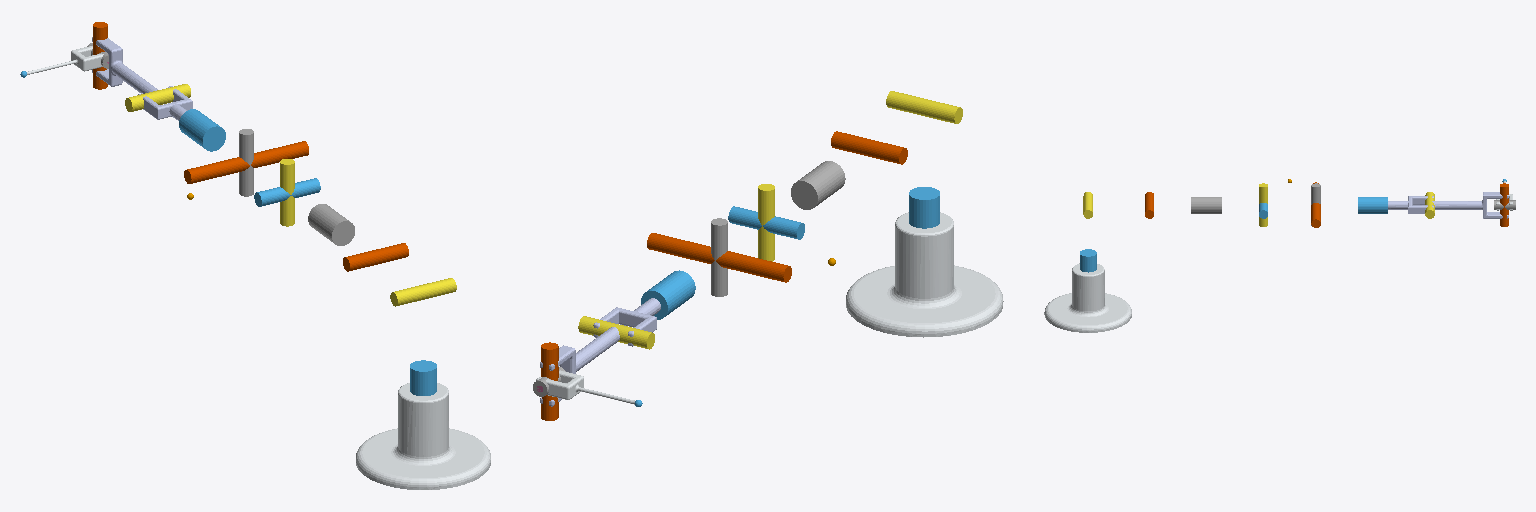
--- Render facts (derived) ---
The picture shows the robot from 3 angles, left to right: view 1: azimuth 30°, elevation 25°; view 2: azimuth 150°, elevation 25°; view 3: azimuth 270°, elevation 25°; orthographic projection.
Model twelvedof with 42 links and 41 joints (12 continuous, 29 fixed), rooted at world, posed every joint at zero.
Links seen in each view (by area): view 1: base_link, motor7, link10, motor4, motor9, motor2, motor3, motor1, motor6, motor8, motor5, link9 (+3 smaller); view 2: base_link, motor7, motor4, motor9, link10, motor3, motor2, motor1, link9, motor5, motor8, motor6 (+3 smaller); view 3: base_link, link10, motor4.
Boxes of the visible links, x1=… form: base_link: x1=356, y1=383, x2=490, y2=489; motor7: x1=184, y1=141, x2=308, y2=183; link10: x1=92, y1=37, x2=157, y2=93; motor4: x1=308, y1=204, x2=354, y2=245; motor9: x1=179, y1=109, x2=225, y2=151; motor2: x1=390, y1=278, x2=456, y2=306; motor3: x1=343, y1=243, x2=408, y2=271; motor1: x1=410, y1=360, x2=436, y2=395; motor6: x1=280, y1=159, x2=294, y2=226; motor8: x1=239, y1=129, x2=253, y2=196; motor5: x1=254, y1=178, x2=320, y2=206; link9: x1=138, y1=86, x2=192, y2=120; base_link: x1=846, y1=212, x2=1003, y2=337; motor7: x1=647, y1=233, x2=791, y2=282; motor4: x1=791, y1=161, x2=845, y2=209; motor9: x1=641, y1=270, x2=695, y2=319; link10: x1=540, y1=327, x2=619, y2=406; motor3: x1=831, y1=131, x2=907, y2=164; motor2: x1=886, y1=91, x2=962, y2=123; motor1: x1=909, y1=187, x2=939, y2=228; link9: x1=593, y1=298, x2=660, y2=346; motor5: x1=728, y1=206, x2=804, y2=239; motor8: x1=711, y1=218, x2=727, y2=296; motor6: x1=758, y1=184, x2=774, y2=261; base_link: x1=1044, y1=263, x2=1131, y2=332; link10: x1=1432, y1=192, x2=1508, y2=218; motor4: x1=1191, y1=197, x2=1221, y2=213.
Size in the robot's own frame: 0.235 by 1.07 by 0.325 metres.
4 mesh visuals loaded from 13 distinct referenced files (4 binary STL); not drawn: 9 (reference not matched to a file when rendering).

URDF robot description (twelvedof):
<?xml version="1.0" encoding="utf-8"?>
<!-- This URDF was automatically created by SolidWorks to URDF Exporter! Originally created by Stephen Brawner ([email redacted]) 
     Commit Version: 1.6.0-1-g15f4949  Build Version: 1.6.7594.29634
     For more information, please see http://wiki.ros.org/sw_urdf_exporter -->
<robot
  name="twelvedof">
  
  <link name="world"/>
    
  <joint name="worldjoint" type="fixed">
    <origin xyz="0 0 0" rpy="0 0 0" />
    <parent link="world" />
    <child link="base_link" />
  </joint>

  <link name="base_link">
    <inertial>
      <origin
        xyz="-7.9441E-34 1.4856E-18 0.035234"
        rpy="0 0 0" />
      <mass
        value="10" />
      <inertia
        ixx="0.002379"
        ixy="3.1576E-35"
        ixz="-1.5303E-35"
        iyy="0.002379"
        iyz="-3.5773E-19"
        izz="0.0025484" />
    </inertial>
    <visual>
      <origin xyz="0 0 0" rpy="0 0 0" />
      <geometry>
        <mesh filename="package://project/meshes/base_link.STL" />
      </geometry>
      <material name="">
        <color rgba="0.89804 0.91765 0.92941 1" />
      </material>
    </visual>
  </link>
    
  <joint name="theta1" type="continuous">
    <origin xyz="0 0 0.105" rpy="1.5708 0 0" />
    <parent link="base_link" />
    <child link="link1" />
    <axis xyz="0 1 0" />
    <dynamics damping="1.0"/>
  </joint>

  <link name="link1">
    <inertial>
      <origin
        xyz="-1.419E-18 0.069921 -7.0908E-19"
        rpy="0 0 0" />
      <mass
        value="0.12918" />
      <inertia
        ixx="0.00038933"
        ixy="1.554E-20"
        ixz="-3.5807E-10"
        iyy="5.0815E-05"
        iyz="-1.9525E-20"
        izz="0.000405" />
    </inertial>
    <visual>
      <origin xyz="0 0 0" rpy="0 0 0" />
      <geometry>
        <mesh filename="package://project/meshes/link1.STL" />
      </geometry>
      <material name="">
        <color rgba="0.89804 0.91765 0.92941 1" />
      </material>
    </visual>
  </link>

  <joint name="theta2" type="continuous">
    <origin xyz="0 0.17 0" rpy="1.5708 1.5708 0" />
    <parent link="link1" />
    <child link="link2" />
    <axis xyz="0 1 0" />
    <dynamics damping="1.0"/>
  </joint>
  
  <link name="link2">
    <inertial>
      <origin
        xyz="0.07 -7.4661E-18 -2.6756E-09"
        rpy="0 0 0" />
      <mass
        value="0.13136" />
      <inertia
        ixx="1.9122E-05"
        ixy="4.4167E-20"
        ixz="-4.1467E-11"
        iyy="0.00034685"
        iyz="-2.4668E-11"
        izz="0.00035017" />
    </inertial>
    <visual>
      <origin xyz="0 0 0" rpy="0 0 0" />
      <geometry>
        <mesh filename="package://project/meshes/link2.STL" />
      </geometry>
      <material name="">
        <color rgba="0.79216 0.81961 0.93333 1" />
      </material>
    </visual>
  </link>
  
  <joint name="theta3" type="continuous">
    <origin xyz="0.14 0 0" rpy="0 0 1.5707963267949" />
    <parent link="link2" />
    <child link="link3" />
    <axis xyz="1 0 0" />
    <dynamics damping="1.0"/>
  </joint>
  
  <link name="link3">
    <inertial>
      <origin
        xyz="1.39165419042562E-10 -0.055569036831021 1.50739365434305E-10"
        rpy="0 0 0" />
      <mass
        value="0.0532676480842889" />
      <inertia
        ixx="7.17068684111301E-05"
        ixy="-2.2073271379026E-14"
        ixz="-1.1411130364755E-10"
        iyy="1.66776723198201E-05"
        iyz="-3.9646299805838E-14"
        izz="8.52612221768292E-05" />
    </inertial>
    <visual>
      <origin xyz="0 0 0" rpy="0 0 0" />
      <geometry>
        <mesh filename="package://project/meshes/link3.STL" />
      </geometry>
      <material name="">
        <color rgba="0.792156862745098 0.819607843137255 0.933333333333333 1" />
      </material>
    </visual>
  </link>
 
  <joint name="theta4" type="continuous">
    <origin xyz="0 -0.13 0" rpy="0 0 3.14159265358979" />
    <parent link="link3" />
    <child link="link4" />
    <axis xyz="0 1 0" />
    <dynamics damping="1.0"/>
  </joint>
 
  <link name="link4">
    <inertial>
      <origin
        xyz="3.66680228788307E-10 0.0744309630757226 4.57771598405543E-11"
        rpy="0 0 0" />
      <mass
        value="0.0532676474780037" />
      <inertia
        ixx="7.17068683212608E-05"
        ixy="-1.36945613265618E-13"
        ixz="-1.14230929893076E-10"
        iyy="1.66776720100514E-05"
        iyz="1.00418867716223E-14"
        izz="8.52612218841434E-05" />
    </inertial>
    <visual>
      <origin xyz="0 0 0" rpy="0 0 0" />
      <geometry>
        <mesh filename="package://project/meshes/link4.STL" />
      </geometry>
      <material name="">
        <color rgba="0.792156862745098 0.819607843137255 0.933333333333333 1" />
      </material>
    </visual>
  </link>

  <joint name="theta5" type="continuous">
    <origin xyz="0 0.13 0" rpy="0 -1.5707963267949 0" />
    <parent link="link4" />
    <child link="link5" />
    <axis xyz="0 0 1" />
    <dynamics damping="1.0"/>
  </joint>

  <link name="link5">
    <inertial>
      <origin
        xyz="-1.32641759797991E-08 1.7454444556364E-09 1.81333805274857E-07"
        rpy="0 0 0" />
      <mass
        value="0.00994148578496848" />
      <inertia
        ixx="1.54538351353866E-06"
        ixy="1.86661466040859E-12"
        ixz="-5.08179849707645E-12"
        iyy="1.51571936007817E-06"
        iyz="-3.23276961224318E-12"
        izz="6.20263989581308E-07" />
    </inertial>
    <visual>
      <origin xyz="0 0 0" rpy="0 0 0" />
      <geometry>
        <mesh filename="package://project/meshes/link5.STL" />
      </geometry>
      <material name="">
        <color rgba="0.898039215686275 0.917647058823529 0.929411764705882 1" />
      </material>
    </visual>
  </link>

  <joint name="theta6" type="continuous">
    <origin xyz="0 0 0" rpy="-3.14159265358979 0 0" />
    <parent link="link5" />
    <child link="link6" />
    <axis xyz="1 0 0" />
    <dynamics damping="1.0"/>
  </joint>

  <link name="link6">
    <inertial>
      <origin
        xyz="-8.98395696724563E-09 -0.0600000346635212 0.00167698865762602"
        rpy="0 0 0" />
      <mass
        value="0.0570027293868964" />
      <inertia
        ixx="8.72110819353783E-05"
        ixy="2.83939957777628E-10"
        ixz="5.72306396551074E-12"
        iyy="1.66281845808555E-05"
        iyz="2.87090876599928E-11"
        izz="8.79631628732104E-05" />
    </inertial>
    <visual>
      <origin xyz="0 0 0" rpy="0 0 0" />
      <geometry>
        <mesh filename="package://project/meshes/link6.STL" />
      </geometry>
      <material name="">
        <color rgba="0.792156862745098 0.819607843137255 0.933333333333333 1" />
      </material>
    </visual>
  </link>

  <joint name="final1" type="fixed">
    <parent link="link6"/>
    <child  link="tip_elbow"/>
    <origin xyz="0 0 0" rpy="0 0 0"/>
  </joint>

  <link name="tip_elbow"/>
  
  
<!-- SECOND HALF OF ARM -->


  <joint name="theta7" type="continuous">
    <origin xyz="0 -0.12 0" rpy="0 0 3.14159265358979" />
    <parent link="link6" />
    <child link="link7" />
    <axis xyz="1 0 0" />
    <dynamics damping="0.8"/>
  </joint>

  <link name="link7">
    <inertial>
      <origin
        xyz="-1.32641757577545E-08 1.7454445666587E-09 1.81333805254885E-07"
        rpy="0 0 0" />
      <mass
        value="0.00994148578496851" />
      <inertia
        ixx="1.54538351353867E-06"
        ixy="1.86661466222653E-12"
        ixz="-5.08179849667178E-12"
        iyy="1.51571936007817E-06"
        iyz="-3.2327696128287E-12"
        izz="6.20263989581311E-07" />
    </inertial>
    <visual>
      <origin xyz="0 0 0" rpy="0 0 0" />
      <geometry>
        <mesh filename="package://project/meshes/link7.STL" />
      </geometry>
      <material name="">
        <color rgba="0.898039215686275 0.917647058823529 0.929411764705882 1" />
      </material>
    </visual>
  </link>

  <joint name="theta8" type="continuous">
    <origin xyz="0 0 0" rpy="3.14159265358979 1.5707963267949 0" />
    <parent link="link7" />
    <child link="link8" />
    <axis xyz="1 0 0" />
    <dynamics damping="0.8"/>
  </joint>

  <link name="link8">
    <inertial>
      <origin
        xyz="-8.83495037608582E-11 -0.0555690369242776 2.55700793871938E-10"
        rpy="0 0 0" />
      <mass
        value="0.0532676474780038" />
      <inertia
        ixx="7.17068683212609E-05"
        ixy="9.27992182478001E-14"
        ixz="-1.14230930028211E-10"
        iyy="1.66776720100514E-05"
        iyz="-8.93351379369638E-14"
        izz="8.52612218841436E-05" />
    </inertial>
    <visual>
      <origin xyz="0 0 0" rpy="0 0 0" />
      <geometry>
        <mesh filename="package://project/meshes/link8.STL" />
      </geometry>
      <material name="">
        <color rgba="0.792156862745098 0.819607843137255 0.933333333333333 1" />
      </material>
    </visual>
  </link>

  <joint name="theta9" type="continuous">
    <origin xyz="0 -0.13 0" rpy="-3.14159265358978 0 0" />
    <parent link="link8" />
    <child link="link9" />
    <axis xyz="0 1 0" />
    <dynamics damping="0.8"/>
  </joint>

  <link name="link9">
    <inertial>
      <origin
        xyz="-8.83494916528465E-11 0.0744309630757227 2.55701515516904E-10"
        rpy="0 0 0" />
      <mass
        value="0.0532676474780037" />
      <inertia
        ixx="7.17068683212611E-05"
        ixy="9.27991842210463E-14"
        ixz="-1.14230929898427E-10"
        iyy="1.66776720100515E-05"
        iyz="-8.93344383273059E-14"
        izz="8.52612218841439E-05" />
    </inertial>
    <visual>
      <origin xyz="0 0 0" rpy="0 0 0" />
      <geometry>
        <mesh filename="package://project/meshes/link9.STL" />
      </geometry>
      <material name="">
        <color rgba="0.792156862745098 0.819607843137255 0.933333333333333 1" />
      </material>
    </visual>
  </link>
 
  <joint name="theta10" type="continuous">
    <origin xyz="0 0.13 0" rpy="3.14159265358979 0 1.5707963267949" />
    <parent link="link9" />
    <child link="link10" />
    <axis xyz="0 1 0" />
    <dynamics damping="0.8"/>
  </joint>
 
  <link name="link10">
    <inertial>
      <origin
        xyz="0.0858647819115578 -4.94694969462831E-05 4.79974323619459E-08"
        rpy="0 0 0" />
      <mass
        value="0.0743981881209823" />
      <inertia
        ixx="1.87713917621073E-05"
        ixy="-3.1603968463363E-07"
        ixz="2.00084585094285E-10"
        iyy="0.000245163362524828"
        iyz="3.88373017940527E-11"
        izz="0.000232598980003436" />
    </inertial>
    <visual>
      <origin xyz="0 0 0" rpy="0 0 0" />
      <geometry>
        <mesh filename="package://project/meshes/link10.STL" />
      </geometry>
      <material name="">
        <color rgba="0.792156862745098 0.819607843137255 0.933333333333333 1" />
      </material>
    </visual>
  </link>
 
  <joint name="theta11" type="continuous">
    <origin xyz="0.17 0 0" rpy="3.14159265358979 0 0" />
    <parent link="link10" />
    <child link="link11" />
    <axis xyz="0 0 1" />
    <dynamics damping="0.5"/>
  </joint>
 

  <link name="link11">
    <inertial>
      <origin
        xyz="-1.32641758687768E-08 1.74544477010197E-09 1.81333805249206E-07"
        rpy="0 0 0" />
      <mass
        value="0.0099414857849685" />
      <inertia
        ixx="1.54538351353871E-06"
        ixy="1.86623347652368E-12"
        ixz="-5.08179853781339E-12"
        iyy="1.51571936007812E-06"
        iyz="-3.23276954505056E-12"
        izz="6.20263989581311E-07" />
    </inertial>
    <visual>
      <origin xyz="0 0 0" rpy="0 0 0" />
      <geometry>
        <mesh filename="package://project/meshes/link11.STL" />
      </geometry>
      <material name="">
        <color rgba="0.898039215686275 0.917647058823529 0.929411764705882 1" />
      </material>
    </visual>
  </link>

  <joint name="theta12" type="continuous">
    <origin xyz="0 0 0" rpy="1.5707963267949 0 0" />
    <parent link="link11" />
    <child link="link12" />
    <axis xyz="1 0 0" />
    <dynamics damping="0.3"/>
  </joint>

  <link name="link12">
    <inertial>
      <origin
        xyz="3.18930326592692E-10 0 -0.0248194012953823"
        rpy="0 0 0" />
      <mass
        value="0.0230261093724122" />
      <inertia
        ixx="1.31880218422786E-05"
        ixy="-8.33050257778651E-12"
        ixz="1.06952381355644E-13"
        iyy="1.66498223037003E-05"
        iyz="-9.93988576856652E-20"
        izz="4.86490776895599E-06" />
    </inertial>
    <visual>
      <origin xyz="0 0 0" rpy="0 0 0" />
      <geometry>
        <mesh filename="package://project/meshes/link12.STL" />
      </geometry>
      <material name="">
        <color rgba="0.898039215686275 0.917647058823529 0.929411764705882 1" />
      </material>
    </visual>
  </link>

  <joint name="final2" type="fixed">
    <parent link="link12"/>
    <child  link="tip_full"/>
    <origin xyz="0 0 0" rpy="0 0 0"/>
  </joint>

  <link name="tip_full"/>










  <!-- *************************************************** -->
  <!-- ****** Building Blocks (Visual AND Inertial) ****** -->
  <!-- *************************************************** -->

  <!-- *** base_link-Fixed: Mount 1, Motor 1 *** -->

  <joint name="attach-mount1" type="fixed">
    <parent link="base_link"/>
    <child  link="mount1"/>
  </joint>
  <link name="mount1">
    <visual>
      <origin xyz="0 0 0.105" rpy="0 0 0"/>
      <geometry>
  <cylinder length="0.05" radius="0.011"/>
      </geometry>
      <material name="black"/>
    </visual>
    <collision>
      <origin xyz="0 0 0.105" rpy="0 0 0"/>
      <geometry>
  <cylinder length="0.05" radius="0.011"/>
      </geometry>
    </collision>
    <inertial>
      <origin xyz="0 0 0.105" rpy="0 0 0"/>
      <mass value="0.2"/>
      <inertia
        ixx="0.000687" ixy="0.0" ixz="0.0"
        iyy="0.000687" iyz="0.0"
        izz="1.000040"/>
    </inertial>
  </link>

  <joint name="attach-motor1" type="fixed">
    <parent link="base_link"/>
    <child  link="motor1"/>
  </joint>
  <link name="motor1">
    <visual>
      <origin xyz="0 0 0.105" rpy="0 0 0"/>
      <geometry>
  <cylinder length="0.1" radius="0.02"/>
      </geometry>
      <material name="gray"/>
    </visual>
    <collision>
      <origin xyz="0 0 0.105" rpy="0 0 0"/>
      <geometry>
  <cylinder length="0.1" radius="0.02"/>
      </geometry>
    </collision>
    <inertial>
      <origin xyz="0 0 0.405" rpy="0 0 0"/>
      <mass value="2.0"/>
      <inertia
        ixx="0.500990" ixy="0.0" ixz="0.0"
        iyy="0.000990" iyz="0.0"
        izz="0.000313"/>
    </inertial>
  </link>


  <!-- *** Motor 1 Output: Mount 2, Motor 2 *** -->

  <joint name="attach-mount2" type="fixed">
    <parent link="link1"/>
    <child  link="mount2"/>
  </joint>
  <link name="mount2">
    <visual>
      <origin xyz="0 0.17 0" rpy="0 -1.5708 0"/>
      <geometry>
  <cylinder length="0.05" radius="0.005"/>
      </geometry>
      <material name="black"/>
    </visual>
    <collision>
      <origin xyz="0 0.17 0" rpy="0 -1.5708 0"/>
      <geometry>
  <cylinder length="0.05" radius="0.005"/>
      </geometry>
    </collision>
    <inertial>
      <origin xyz="0 0.17 0" rpy="0 -1.5708 0"/>
      <mass value="0.2"/>
      <inertia
        ixx="0.000687" ixy="0.0" ixz="0.0"
        iyy="0.000687" iyz="0.0"
        izz="1.000040"/>
    </inertial>
  </link>

  <joint name="attach-motor2" type="fixed">
    <parent link="link1"/>
    <child  link="motor2"/>
  </joint>
  <link name="motor2">
    <visual>
      <origin xyz="0 0.17 0" rpy="0 -1.5708 0"/>
      <geometry>
  <cylinder length="0.1" radius="0.011"/>
      </geometry>
      <material name="gray"/>
    </visual>
    <collision>
      <origin xyz="0 0.17 0" rpy="0 -1.5708 0"/>
      <geometry>
  <cylinder length="0.1" radius="0.011"/>
      </geometry>
    </collision>
    <inertial>
      <origin xyz="0 0.17 0" rpy="0 -1.5708 0"/>
      <mass value="2.0"/>
      <inertia
        ixx="0.500990" ixy="0.0" ixz="0.0"
        iyy="0.000990" iyz="0.0"
        izz="0.000313"/>
    </inertial>
  </link>


  <!-- *** Motor 2 Output: Mount 3, Motor 3 *** -->

  <joint name="attach-mount3" type="fixed">
    <parent link="link2"/>
    <child  link="mount3"/>
  </joint>
  <link name="mount3">
    <visual>
      <origin xyz="0.14 0 0" rpy="0 -1.5708 -1.5708"/>
      <geometry>
  <cylinder length="0.05" radius="0.005"/>
      </geometry>
      <material name="black"/>
    </visual>
    <collision>
      <origin xyz="0.14 0 0" rpy="0 -1.5708 -1.5708"/>
      <geometry>
  <cylinder length="0.05" radius="0.005"/>
      </geometry>
    </collision>
    <inertial>
      <origin xyz="0.14 0 0" rpy="0 -1.5708 -1.5708"/>
      <mass value="0.2"/>
      <inertia
        ixx="0.000687" ixy="0.0" ixz="0.0"
        iyy="0.000687" iyz="0.0"
        izz="1.000040"/>
    </inertial>
  </link>

  <joint name="attach-motor3" type="fixed">
    <parent link="link2"/>
    <child  link="motor3"/>
  </joint>
  <link name="motor3">
    <visual>
      <origin xyz="0.14 0 0" rpy="0 -1.5708 -1.5708"/>
      <geometry>
  <cylinder length="0.1" radius="0.011"/>
      </geometry>
      <material name="gray"/>
    </visual>
    <collision>
      <origin xyz="0.14 0 0" rpy="0 -1.5708 -1.5708"/>
      <geometry>
  <cylinder length="0.1" radius="0.011"/>
      </geometry>
    </collision>
    <inertial>
      <origin xyz="0.14 0 0" rpy="0 -1.5708 -1.5708"/>
      <mass value="2.0"/>
      <inertia
        ixx="0.500990" ixy="0.0" ixz="0.0"
        iyy="0.000990" iyz="0.0"
        izz="0.000313"/>
    </inertial>
  </link>


  <!-- *** Motor 3 Output: Mount 4, Motor 4 *** -->

  <joint name="attach-mount4" type="fixed">
    <parent link="link3"/>
    <child  link="mount4"/>
  </joint>
  <link name="mount4">
    <visual>
      <origin xyz="0 -0.13 0" rpy="-1.5708 0 0"/>
      <geometry>
  <cylinder length="0.035" radius="0.011"/>
      </geometry>
      <material name="black"/>
    </visual>
    <collision>
      <origin xyz="0 -0.13 0" rpy="-1.5708 0 0"/>
      <geometry>
  <cylinder length="0.035" radius="0.011"/>
      </geometry>
    </collision>
    <inertial>
      <origin xyz="0 -0.13 0" rpy="-1.5708 0 0"/>
      <mass value="0.2"/>
      <inertia
        ixx="0.000687" ixy="0.0" ixz="0.0"
        iyy="0.000687" iyz="0.0"
        izz="1.000040"/>
    </inertial>
  </link>

  <joint name="attach-motor4" type="fixed">
    <parent link="link3"/>
    <child  link="motor4"/>
  </joint>
  <link name="motor4">
    <visual>
      <origin xyz="0 -0.13 0" rpy="-1.5708 0 0"/>
      <geometry>
  <cylinder length="0.07" radius="0.02"/>
      </geometry>
      <material name="gray"/>
    </visual>
    <collision>
      <origin xyz="0 -0.13 0" rpy="-1.5708 0 0"/>
      <geometry>
  <cylinder length="0.07" radius="0.02"/>
      </geometry>
    </collision>
    <inertial>
      <origin xyz="0 -0.13 0" rpy="-1.5708 0 0"/>
      <mass value="1.5"/>
      <inertia
        ixx="0.500990" ixy="0.0" ixz="0.0"
        iyy="0.000990" iyz="0.0"
        izz="0.000313"/>
    </inertial>
  </link>


  <!-- *** Motor 4 Output: Mount 5, Motor 5 *** -->

  <joint name="attach-mount5" type="fixed">
    <parent link="link4"/>
    <child  link="mount5"/>
  </joint>
  <link name="mount5">
    <visual>
      <origin xyz="0 0.13 0" rpy="0 -1.5708 0"/>
      <geometry>
  <cylinder length="0.05" radius="0.005"/>
      </geometry>
      <material name="black"/>
    </visual>
    <collision>
      <origin xyz="0 0.13 0" rpy="0 -1.5708 0"/>
      <geometry>
  <cylinder length="0.05" radius="0.005"/>
      </geometry>
    </collision>
    <inertial>
      <origin xyz="0 0.13 0" rpy="0 -1.5708 0"/>
      <mass value="0.2"/>
      <inertia
        ixx="0.000687" ixy="0.0" ixz="0.0"
        iyy="0.000687" iyz="0.0"
        izz="1.000040"/>
    </inertial>
  </link>

  <joint name="attach-motor5" type="fixed">
    <parent link="link4"/>
    <child  link="motor5"/>
  </joint>
  <link name="motor5">
    <visual>
      <origin xyz="0 0.13 0" rpy="0 -1.5708 0"/>
      <geometry>
  <cylinder length="0.1" radius="0.011"/>
      </geometry>
      <material name="gray"/>
    </visual>
    <collision>
      <origin xyz="0 0.13 0" rpy="0 -1.5708 0"/>
      <geometry>
  <cylinder length="0.1" radius="0.011"/>
      </geometry>
    </collision>
    <inertial>
      <origin xyz="0 0.13 0" rpy="0 -1.5708 0"/>
      <mass value="1.5"/>
      <inertia
        ixx="0.500990" ixy="0.0" ixz="0.0"
        iyy="0.000990" iyz="0.0"
        izz="0.000313"/>
    </inertial>
  </link>


  <!-- *** Motor 5 Output: Mount 6, Motor 6 *** -->

  <joint name="attach-mount6" type="fixed">
    <parent link="link5"/>
    <child  link="mount6"/>
  </joint>
  <link name="mount6">
    <visual>
      <origin xyz="0 0 0" rpy="0 -1.5708 0"/>
      <geometry>
  <cylinder length="0.05" radius="0.005"/>
      </geometry>
      <material name="black"/>
    </visual>
    <collision>
      <origin xyz="0 0 0" rpy="0 -1.5708 0"/>
      <geometry>
  <cylinder length="0.05" radius="0.005"/>
      </geometry>
    </collision>
    <inertial>
      <origin xyz="0 0 0" rpy="0 -1.5708 0"/>
      <mass value="0.2"/>
      <inertia
        ixx="0.000687" ixy="0.0" ixz="0.0"
        iyy="0.000687" iyz="0.0"
        izz="1.000040"/>
    </inertial>
  </link>

  <joint name="attach-motor6" type="fixed">
    <parent link="link5"/>
    <child  link="motor6"/>
  </joint>
  <link name="motor6">
    <visual>
      <origin xyz="0 0 0" rpy="0 -1.5708 0"/>
      <geometry>
  <cylinder length="0.1" radius="0.011"/>
      </geometry>
      <material name="gray"/>
    </visual>
    <collision>
      <origin xyz="0 0 0" rpy="0 -1.5708 0"/>
      <geometry>
  <cylinder length="0.1" radius="0.011"/>
      </geometry>
    </collision>
    <inertial>
      <origin xyz="0 0 0" rpy="0 -1.5708 0"/>
      <mass value="1.5"/>
      <inertia
        ixx="0.500990" ixy="0.0" ixz="0.0"
        iyy="0.000990" iyz="0.0"
        izz="0.000313"/>
    </inertial>
  </link>


  <!-- *** Motor 6 Output: Mount 7, Motor 7 *** -->

  <joint name="attach-mount7" type="fixed">
    <parent link="link6"/>
    <child  link="mount7"/>
  </joint>
  <link name="mount7">
    <visual>
      <origin xyz="0 -0.12 0" rpy="0 0 0"/>
      <geometry>
  <cylinder length="0.05" radius="0.005"/>
      </geometry>
      <material name="black"/>
    </visual>
    <collision>
      <origin xyz="0 -0.12 0" rpy="0 0 0"/>
      <geometry>
  <cylinder length="0.05" radius="0.005"/>
      </geometry>
    </collision>
    <inertial>
      <origin xyz="0 -0.12 0" rpy="0 0 0"/>
      <mass value="0.2"/>
      <inertia
        ixx="0.000687" ixy="0.0" ixz="0.0"
        iyy="0.000687" iyz="0.0"
        izz="1.000040"/>
    </inertial>
  </link>

  <joint name="attach-motor7" type="fixed">
    <parent link="link6"/>
    <child  link="motor7"/>
  </joint>
  <link name="motor7">
    <visual>
      <origin xyz="0 -0.12 0" rpy="0 0 0"/>
      <geometry>
  <cylinder length="0.2" radius="0.011"/>
      </geometry>
      <material name="gray"/>
    </visual>
    <collision>
      <origin xyz="0 -0.12 0" rpy="0 0 0"/>
      <geometry>
  <cylinder length="0.1" radius="0.011"/>
      </geometry>
    </collision>
    <inertial>
      <origin xyz="0 -0.12 0" rpy="0 0 0"/>
      <mass value="1.5"/>
      <inertia
        ixx="0.500990" ixy="0.0" ixz="0.0"
        iyy="0.000990" iyz="0.0"
        izz="0.000313"/>
    </inertial>
  </link>


  <!-- *** Motor 7 Output: Mount 8, Motor 8 *** -->

  <joint name="attach-mount8" type="fixed">
    <parent link="link7"/>
    <child  link="mount8"/>
  </joint>
  <link name="mount8">
    <visual>
      <origin xyz="0 0 0" rpy="0 -1.5707963267949 0"/>
      <geometry>
  <cylinder length="0.05" radius="0.005"/>
      </geometry>
      <material name="black"/>
    </visual>
    <collision>
      <origin xyz="0 0 0" rpy="0 -1.5707963267949 0"/>
      <geometry>
  <cylinder length="0.05" radius="0.005"/>
      </geometry>
    </collision>
    <inertial>
      <origin xyz="0 0 0" rpy="0 -1.5707963267949 0"/>
      <mass value="0.2"/>
      <inertia
        ixx="0.000687" ixy="0.0" ixz="0.0"
        iyy="0.000687" iyz="0.0"
        izz="1.000040"/>
    </inertial>
  </link>

  <joint name="attach-motor8" type="fixed">
    <parent link="link7"/>
    <child  link="motor8"/>
  </joint>
  <link name="motor8">
    <visual>
      <origin xyz="0 0 0" rpy="0 -1.5707963267949 0"/>
      <geometry>
  <cylinder length="0.1" radius="0.011"/>
      </geometry>
      <material name="gray"/>
    </visual>
    <collision>
      <origin xyz="0 0 0" rpy="0 -1.5707963267949 0"/>
      <geometry>
  <cylinder length="0.1" radius="0.011"/>
      </geometry>
    </collision>
    <inertial>
      <origin xyz="0 0 0" rpy="0 -1.5707963267949 0"/>
      <mass value="1.0"/>
      <inertia
        ixx="0.500990" ixy="0.0" ixz="0.0"
        iyy="0.000990" iyz="0.0"
        izz="0.000313"/>
    </inertial>
  </link>


  <!-- *** Motor 8 Output: Mount 9, Motor 9 *** -->

  <joint name="attach-mount9" type="fixed">
    <parent link="link8"/>
    <child  link="mount9"/>
  </joint>
  <link name="mount9">
    <visual>
      <origin xyz="0 -0.13 0" rpy="1.5707963267949 0 0"/>
      <geometry>
  <cylinder length="0.05" radius="0.005"/>
      </geometry>
      <material name="black"/>
    </visual>
    <collision>
      <origin xyz="0 -0.13 0" rpy="1.5707963267949 0 0"/>
      <geometry>
  <cylinder length="0.05" radius="0.005"/>
      </geometry>
    </collision>
    <inertial>
      <origin xyz="0 -0.13 0" rpy="1.5707963267949 0 0"/>
      <mass value="0.2"/>
      <inertia
        ixx="0.000687" ixy="0.0" ixz="0.0"
        iyy="0.000687" iyz="0.0"
        izz="1.000040"/>
    </inertial>
  </link>

  <joint name="attach-motor9" type="fixed">
    <parent link="link8"/>
    <child  link="motor9"/>
  </joint>
  <link name="motor9">
    <visual>
      <origin xyz="0 -0.13 0" rpy="1.5707963267949 0 0"/>
      <geometry>
  <cylinder length="0.07" radius="0.02"/>
      </geometry>
      <material name="gray"/>
    </visual>
    <collision>
      <origin xyz="0 -0.13 0" rpy="1.5707963267949 0 0"/>
      <geometry>
  <cylinder length="0.07" radius="0.02"/>
      </geometry>
    </collision>
    <inertial>
      <origin xyz="0 -0.13 0" rpy="1.5707963267949 0 0"/>
      <mass value="1.0"/>
      <inertia
        ixx="0.500990" ixy="0.0" ixz="0.0"
        iyy="0.000990" iyz="0.0"
        izz="0.000313"/>
    </inertial>
  </link>


  <!-- *** Motor 9 Output: Mount 10, Motor 10 *** -->

  <joint name="attach-mount10" type="fixed">
    <parent link="link9"/>
    <child  link="mount10"/>
  </joint>
  <link name="mount10">
    <visual>
      <origin xyz="0 0.13 0" rpy="0 -1.5707963267949 0"/>
      <geometry>
  <cylinder length="0.05" radius="0.005"/>
      </geometry>
      <material name="black"/>
    </visual>
    <collision>
      <origin xyz="0 0.13 0" rpy="0 -1.5707963267949 0"/>
      <geometry>
  <cylinder length="0.05" radius="0.005"/>
      </geometry>
    </collision>
    <inertial>
      <origin xyz="0 0.13 0" rpy="0 -1.5707963267949 0"/>
      <mass value="0.2"/>
      <inertia
        ixx="0.000687" ixy="0.0" ixz="0.0"
        iyy="0.000687" iyz="0.0"
        izz="1.000040"/>
    </inertial>
  </link>

  <joint name="attach-motor10" type="fixed">
    <parent link="link9"/>
    <child  link="motor10"/>
  </joint>
  <link name="motor10">
    <visual>
      <origin xyz="0 0.13 0" rpy="0 -1.5707963267949 0"/>
      <geometry>
  <cylinder length="0.1" radius="0.011"/>
      </geometry>
      <material name="gray"/>
    </visual>
    <collision>
      <origin xyz="0 0.13 0" rpy="0 -1.5707963267949 0"/>
      <geometry>
  <cylinder length="0.1" radius="0.011"/>
      </geometry>
    </collision>
    <inertial>
      <origin xyz="0 0.13 0" rpy="0 -1.5707963267949 0"/>
      <mass value="1.0"/>
      <inertia
        ixx="0.500990" ixy="0.0" ixz="0.0"
        iyy="0.000990" iyz="0.0"
        izz="0.000313"/>
    </inertial>
  </link>


  <!-- *** Motor 10 Output: Mount 11, Motor 11 *** -->

  <joint name="attach-mount11" type="fixed">
    <parent link="link10"/>
    <child  link="mount11"/>
  </joint>
  <link name="mount11">
    <visual>
      <origin xyz="0.17 0 0" rpy="-3.14159265358979 0 0"/>
      <geometry>
  <cylinder length="0.05" radius="0.005"/>
      </geometry>
      <material name="black"/>
    </visual>
    <collision>
      <origin xyz="0.17 0 0" rpy="-3.14159265358979 0 0"/>
      <geometry>
  <cylinder length="0.05" radius="0.005"/>
      </geometry>
    </collision>
    <inertial>
      <origin xyz="0.17 0 0" rpy="-3.14159265358979 0 0"/>
      <mass value="0.2"/>
      <inertia
        ixx="0.000687" ixy="0.0" ixz="0.0"
        iyy="0.000687" iyz="0.0"
        izz="1.000040"/>
    </inertial>
  </link>

  <joint name="attach-motor11" type="fixed">
    <parent link="link10"/>
    <child  link="motor11"/>
  </joint>
  <link name="motor11">
    <visual>
      <origin xyz="0.17 0 0" rpy="-3.14159265358979 0 0"/>
      <geometry>
  <cylinder length="0.1" radius="0.011"/>
      </geometry>
      <material name="gray"/>
    </visual>
    <collision>
      <origin xyz="0.17 0 0" rpy="-3.14159265358979 0 0"/>
      <geometry>
  <cylinder length="0.1" radius="0.011"/>
      </geometry>
    </collision>
    <inertial>
      <origin xyz="0.17 0 0" rpy="-3.14159265358979 0 0"/>
      <mass value="1.0"/>
      <inertia
        ixx="0.500990" ixy="0.0" ixz="0.0"
        iyy="0.000990" iyz="0.0"
        izz="0.000313"/>
    </inertial>
  </link>


  <!-- *** Motor 11 Output: Mount 12, Motor 12 *** -->

  <joint name="attach-mount12" type="fixed">
    <parent link="link11"/>
    <child  link="mount12"/>
  </joint>
  <link name="mount12">
    <visual>
      <origin xyz="0 0 0" rpy="0 -1.5707963267949 0"/>
      <geometry>
  <cylinder length="0.05" radius="0.005"/>
      </geometry>
      <material name="black"/>
    </visual>
    <collision>
      <origin xyz="0 0 0" rpy="0 -1.5707963267949 0"/>
      <geometry>
  <cylinder length="0.05" radius="0.005"/>
      </geometry>
    </collision>
    <inertial>
      <origin xyz="0 0 0" rpy="0 -1.5707963267949 0"/>
      <mass value="0.2"/>
      <inertia
        ixx="0.000687" ixy="0.0" ixz="0.0"
        iyy="0.000687" iyz="0.0"
        izz="1.000040"/>
    </inertial>
  </link>

  <joint name="attach-motor12" type="fixed">
    <parent link="link11"/>
    <child  link="motor12"/>
  </joint>
  <link name="motor12">
    <visual>
      <origin xyz="0 0 0" rpy="0 -1.5707963267949 0"/>
      <geometry>
  <cylinder length="0.05" radius="0.011"/>
      </geometry>
      <material name="gray"/>
    </visual>
    <collision>
      <origin xyz="0 0 0" rpy="0 -1.5707963267949 0"/>
      <geometry>
  <cylinder length="0.05" radius="0.011"/>
      </geometry>
    </collision>
    <inertial>
      <origin xyz="0 0 0" rpy="0 -1.5707963267949 0"/>
      <mass value="1.0"/>
      <inertia
        ixx="0.500990" ixy="0.0" ixz="0.0"
        iyy="0.000990" iyz="0.0"
        izz="0.000313"/>
    </inertial>
  </link>



  <!-- *** Motor 6 Output: Sphere1 *** -->

  <joint name="attach-sphere1" type="fixed">
    <parent link="tip_elbow"/>
    <child  link="sphere1"/>
  </joint>
  <link name="sphere1">
    <visual>
      <origin xyz="0 -0.06 0.13" rpy="0 0 0"/>
      <geometry>
	      <sphere radius="0.005"/>
      </geometry>
      <material name="green"/>
    </visual>
    <collision>
      <origin xyz="0 -0.06 0.13" rpy="0 0 0"/>
      <geometry>
	      <sphere radius="0.005"/>
      </geometry>
      <material name="green"/>
    </collision>
    <inertial>
      <origin xyz="0 -0.06 0.13" rpy="0 0 0"/>
      <mass value="0.01"/>
      <inertia
        ixx="0.01" ixy="0.0" ixz="0.0"
        iyy="0.01" iyz="0.0"
        izz="0.01"/>
    </inertial>
  </link>

  <!-- *** Motor 12 Output: Sphere2 *** -->

  <joint name="attach-sphere2" type="fixed">
    <parent link="tip_full"/>
    <child  link="sphere2"/>
  </joint>
  <link name="sphere2">
    <visual>
      <origin xyz="0 0 -0.13" rpy="0 0 0"/>
      <geometry>
	      <sphere radius="0.005"/>
      </geometry>
      <material name="green"/>
    </visual>
    <collision>
      <origin xyz="0 0 -0.13" rpy="0 0 0"/>
      <geometry>
	      <sphere radius="0.005"/>
      </geometry>
      <material name="green"/>
    </collision>
    <inertial>
      <origin xyz="0 0 -0.13" rpy="0 0 0"/>
      <mass value="0.01"/>
      <inertia
        ixx="0.01" ixy="0.0" ixz="0.0"
        iyy="0.01" iyz="0.0"
        izz="0.01"/>
    </inertial>
  </link>




  <!-- *************************************************** -->
  <!-- ******************* Gazebo Colors ***************** -->
  <!-- *************************************************** -->

  <gazebo reference="motor1"> <material>Gazebo/Gray</material>  </gazebo>
  <gazebo reference="motor2"> <material>Gazebo/Gray</material>  </gazebo>
  <gazebo reference="motor3"> <material>Gazebo/Gray</material>  </gazebo>
  <gazebo reference="motor4"> <material>Gazebo/Gray</material>  </gazebo>
  <gazebo reference="motor5"> <material>Gazebo/Gray</material>  </gazebo>
  <gazebo reference="motor6"> <material>Gazebo/Gray</material>  </gazebo>
  <gazebo reference="motor7"> <material>Gazebo/Gray</material>  </gazebo>
  <gazebo reference="motor8"> <material>Gazebo/Gray</material>  </gazebo>
  <gazebo reference="motor9"> <material>Gazebo/Gray</material>  </gazebo>
  <gazebo reference="motor10"> <material>Gazebo/Gray</material>  </gazebo>
  <gazebo reference="motor11"> <material>Gazebo/Gray</material>  </gazebo>
  <gazebo reference="motor12"> <material>Gazebo/Gray</material>  </gazebo>

  <gazebo reference="mount1">   <material>Gazebo/Black</material> </gazebo>
  <gazebo reference="mount2">   <material>Gazebo/Black</material> </gazebo>
  <gazebo reference="mount3">   <material>Gazebo/Black</material> </gazebo>
  <gazebo reference="mount4">   <material>Gazebo/Black</material> </gazebo>
  <gazebo reference="mount5">   <material>Gazebo/Black</material> </gazebo>
  <gazebo reference="mount6">   <material>Gazebo/Black</material> </gazebo>
  <gazebo reference="mount7">   <material>Gazebo/Black</material> </gazebo>
  <gazebo reference="mount8">   <material>Gazebo/Black</material> </gazebo>
  <gazebo reference="mount9">   <material>Gazebo/Black</material> </gazebo>
  <gazebo reference="mount10">   <material>Gazebo/Black</material> </gazebo>
  <gazebo reference="mount11">   <material>Gazebo/Black</material> </gazebo>
  <gazebo reference="mount12">   <material>Gazebo/Black</material> </gazebo>

  <gazebo reference="sphere">  <material>Gazebo/Green</material>  </gazebo>
  
 



  <!-- *************************************************** -->
  <!-- ************** Gazebo Transmissions *************** -->
  <!-- *************************************************** -->

  <transmission name="trans1">
    <type>transmission_interface/SimpleTransmission</type>
    <joint name="theta1">
      <hardwareInterface>hardware_interface/EffortJointInterface</hardwareInterface>
    </joint>
    <actuator name="motor1">
      <mechanicalReduction>1</mechanicalReduction>
      <hardwareInterface>hardware_interface/EffortJointInterface</hardwareInterface>
    </actuator>
  </transmission>
  
  <transmission name="trans2">
    <type>transmission_interface/SimpleTransmission</type>
    <joint name="theta2">
      <hardwareInterface>hardware_interface/EffortJointInterface</hardwareInterface>
    </joint>
    <actuator name="motor2">
      <mechanicalReduction>1</mechanicalReduction>
      <hardwareInterface>hardware_interface/EffortJointInterface</hardwareInterface>
    </actuator>
  </transmission>
  
  <transmission name="trans3">
    <type>transmission_interface/SimpleTransmission</type>
    <joint name="theta3">
      <hardwareInterface>hardware_interface/EffortJointInterface</hardwareInterface>
    </joint>
    <actuator name="motor3">
      <mechanicalReduction>1</mechanicalReduction>
      <hardwareInterface>hardware_interface/EffortJointInterface</hardwareInterface>
    </actuator>
  </transmission>
  
  <transmission name="trans4">
    <type>transmission_interface/SimpleTransmission</type>
    <joint name="theta4">
      <hardwareInterface>hardware_interface/EffortJointInterface</hardwareInterface>
    </joint>
    <actuator name="motor4">
      <mechanicalReduction>1</mechanicalReduction>
      <hardwareInterface>hardware_interface/EffortJointInterface</hardwareInterface>
    </actuator>
  </transmission>
  
  <transmission name="trans5">
    <type>transmission_interface/SimpleTransmission</type>
    <joint name="theta5">
      <hardwareInterface>hardware_interface/EffortJointInterface</hardwareInterface>
    </joint>
    <actuator name="motor5">
      <mechanicalReduction>1</mechanicalReduction>
      <hardwareInterface>hardware_interface/EffortJointInterface</hardwareInterface>
    </actuator>
  </transmission>
  
  <transmission name="trans6">
    <type>transmission_interface/SimpleTransmission</type>
    <joint name="theta6">
      <hardwareInterface>hardware_interface/EffortJointInterface</hardwareInterface>
    </joint>
    <actuator name="motor6">
      <mechanicalReduction>1</mechanicalReduction>
      <hardwareInterface>hardware_interface/EffortJointInterface</hardwareInterface>
    </actuator>
  </transmission>
  
  <transmission name="trans7">
    <type>transmission_interface/SimpleTransmission</type>
    <joint name="theta7">
      <hardwareInterface>hardware_interface/EffortJointInterface</hardwareInterface>
    </joint>
    <actuator name="motor7">
      <mechanicalReduction>1</mechanicalReduction>
      <hardwareInterface>hardware_interface/EffortJointInterface</hardwareInterface>
    </actuator>
  </transmission>

  <transmission name="trans8">
    <type>transmission_interface/SimpleTransmission</type>
    <joint name="theta8">
      <hardwareInterface>hardware_interface/EffortJointInterface</hardwareInterface>
    </joint>
    <actuator name="motor8">
      <mechanicalReduction>1</mechanicalReduction>
      <hardwareInterface>hardware_interface/EffortJointInterface</hardwareInterface>
    </actuator>
  </transmission>

  <transmission name="trans9">
    <type>transmission_interface/SimpleTransmission</type>
    <joint name="theta9">
      <hardwareInterface>hardware_interface/EffortJointInterface</hardwareInterface>
    </joint>
    <actuator name="motor9">
      <mechanicalReduction>1</mechanicalReduction>
      <hardwareInterface>hardware_interface/EffortJointInterface</hardwareInterface>
    </actuator>
  </transmission>

  <transmission name="trans10">
    <type>transmission_interface/SimpleTransmission</type>
    <joint name="theta10">
      <hardwareInterface>hardware_interface/EffortJointInterface</hardwareInterface>
    </joint>
    <actuator name="motor10">
      <mechanicalReduction>1</mechanicalReduction>
      <hardwareInterface>hardware_interface/EffortJointInterface</hardwareInterface>
    </actuator>
  </transmission>

  <transmission name="trans11">
    <type>transmission_interface/SimpleTransmission</type>
    <joint name="theta11">
      <hardwareInterface>hardware_interface/EffortJointInterface</hardwareInterface>
    </joint>
    <actuator name="motor11">
      <mechanicalReduction>1</mechanicalReduction>
      <hardwareInterface>hardware_interface/EffortJointInterface</hardwareInterface>
    </actuator>
  </transmission>

  <transmission name="trans12">
    <type>transmission_interface/SimpleTransmission</type>
    <joint name="theta12">
      <hardwareInterface>hardware_interface/EffortJointInterface</hardwareInterface>
    </joint>
    <actuator name="motor12">
      <mechanicalReduction>1</mechanicalReduction>
      <hardwareInterface>hardware_interface/EffortJointInterface</hardwareInterface>
    </actuator>
  </transmission>

  
  <!-- *************************************************** -->
  <!-- *************** Gazebo Controllers **************** -->
  <!-- *************************************************** -->

  <gazebo>
    <plugin name="gazebo_ros_control" filename="libgazebo_ros_control.so">
      <robotNamespace>/twelvedof</robotNamespace>
      <robotSimType>gazebo_ros_control/DefaultRobotHWSim</robotSimType>
    </plugin>
  </gazebo>



</robot>
